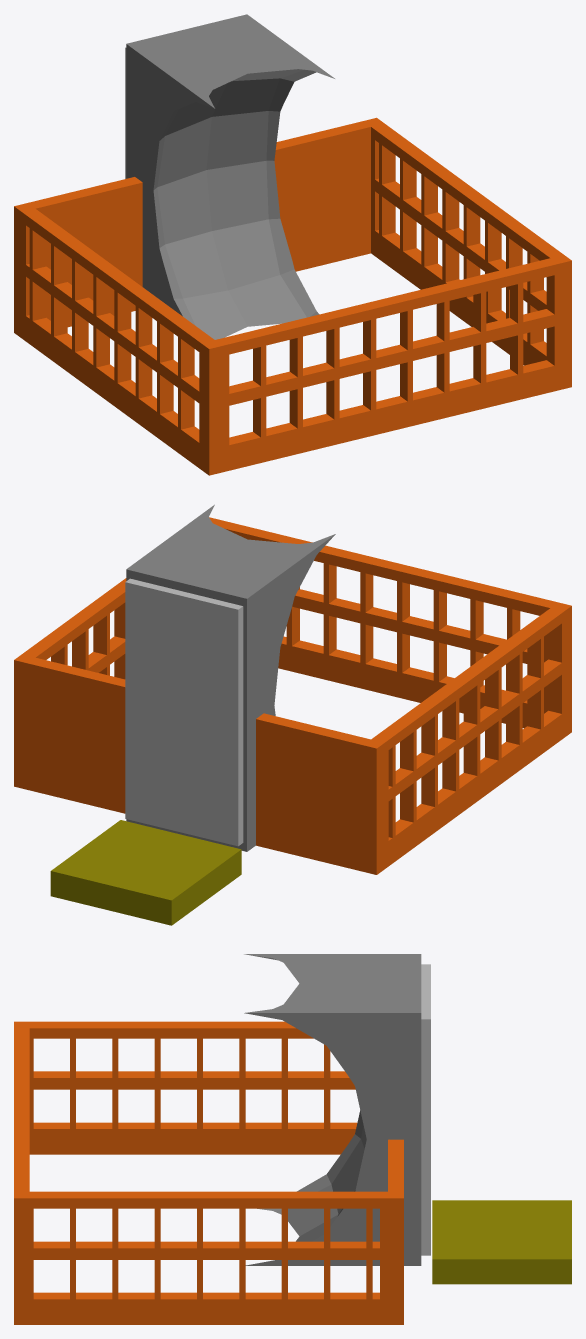
File: pod_hangar.glb
3 views of the same model, one above another, from view 1: azimuth 30°, elevation 25°; view 2: azimuth 150°, elevation 25°; view 3: azimuth 270°, elevation 25° (orthographic).
Parts seen in each view (by area): view 1: pod_hangar; view 2: pod_hangar; view 3: pod_hangar.
Boxes of the visible parts, x1,y1,x2,y2 form: pod_hangar: (14,14,571,475); pod_hangar: (14,504,571,925); pod_hangar: (14,954,571,1324).
Bounding box in the file's own units: 3 × 2.15 × 4.
